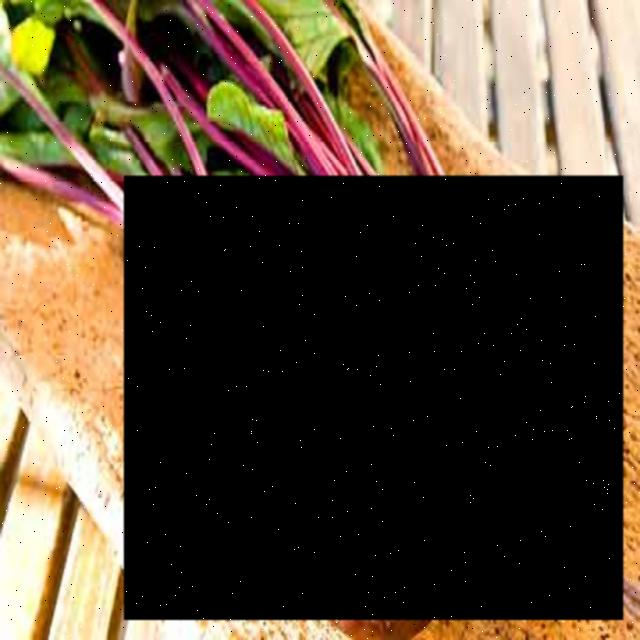Beetroot: (126, 176, 624, 620)
